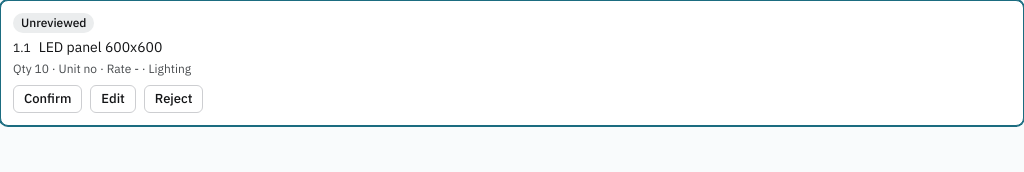
Test: review rows › shows a permission message on 403 and restores the state
Click the button "Confirm": point(48, 99) [13, 85, 82, 113]
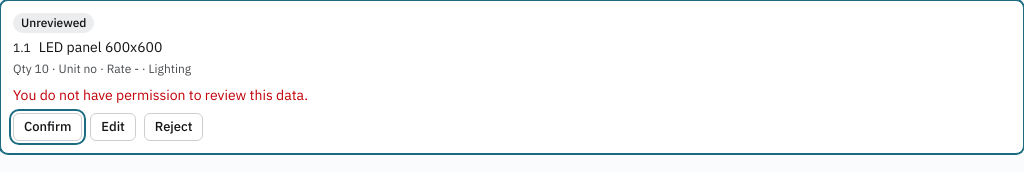
expect the text "Unreviewed" is shown: met, box [13, 13, 94, 33]
expect the message shows "permission": met, box [13, 86, 308, 104]
